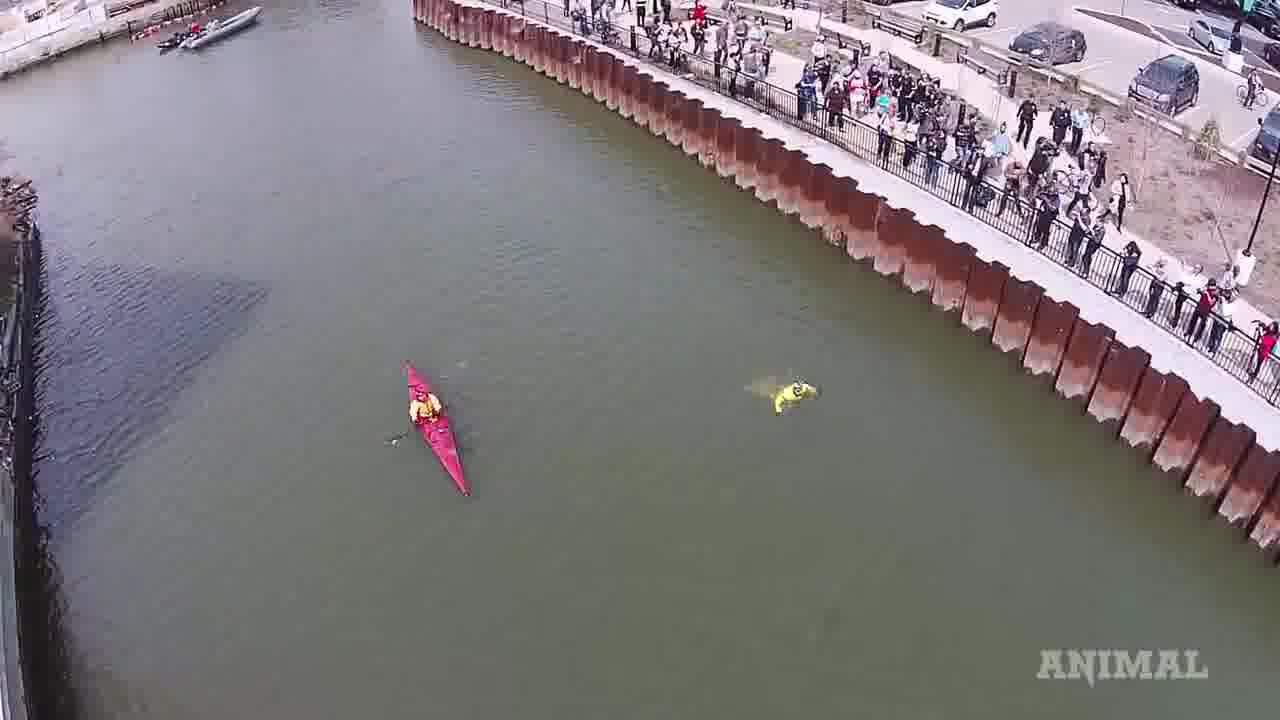human: (740, 366, 820, 416)
